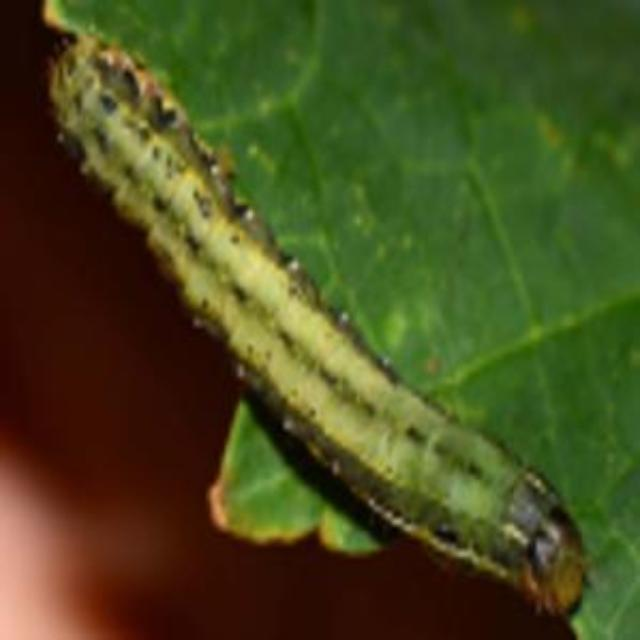Beet armyworm: (34, 25, 606, 640)
